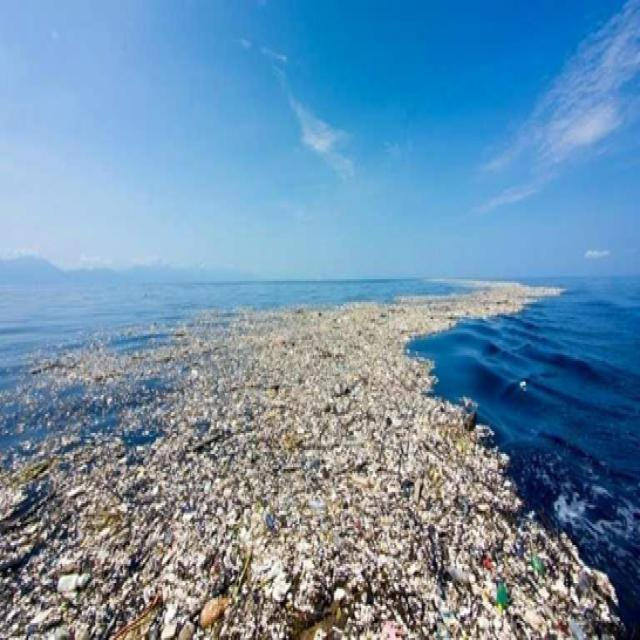plastic watse: (0, 283, 623, 638)
